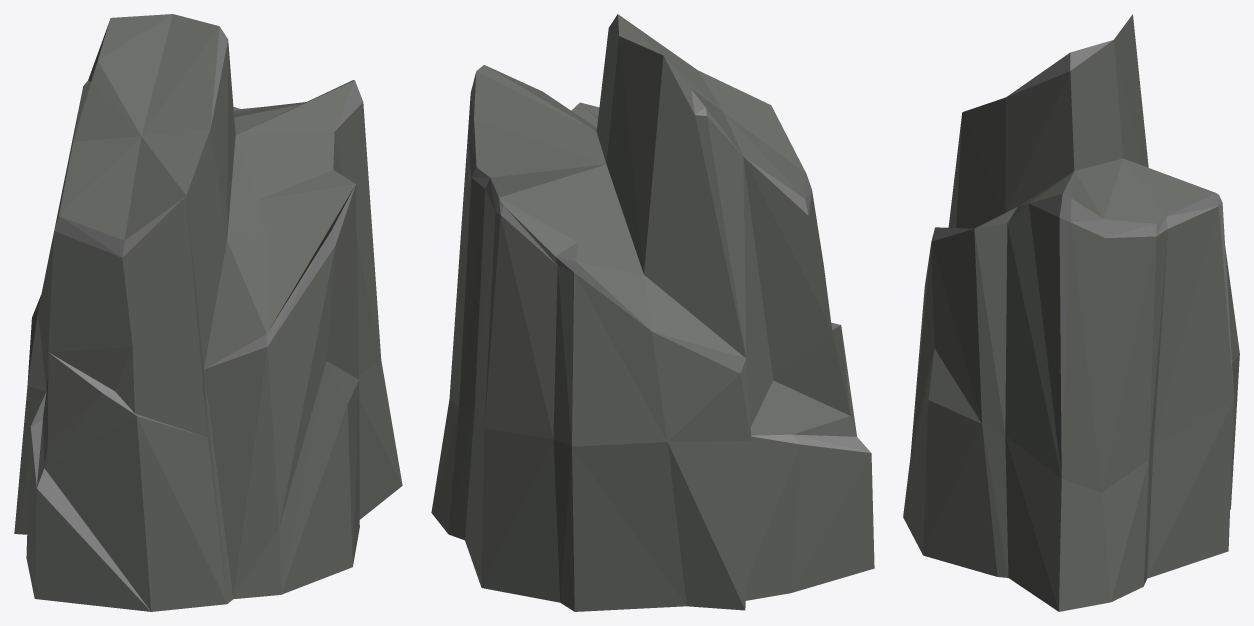
The model's file is Rock.fbx.
3 renders of one model, left to right at view 1: azimuth 30°, elevation 25°; view 2: azimuth 150°, elevation 25°; view 3: azimuth 270°, elevation 25°, orthographic. The views are drawn at different scales.
Visible parts, largest first — view 1: Rock; view 2: Rock; view 3: Rock.
Part boxes in pixels (box(x1,y1,x2,y2)): Rock: box(14, 14, 402, 611); Rock: box(431, 14, 874, 611); Rock: box(903, 14, 1239, 611).
Size of the model in its own units: 180 by 220 by 140.
1 material, 1 textured.
